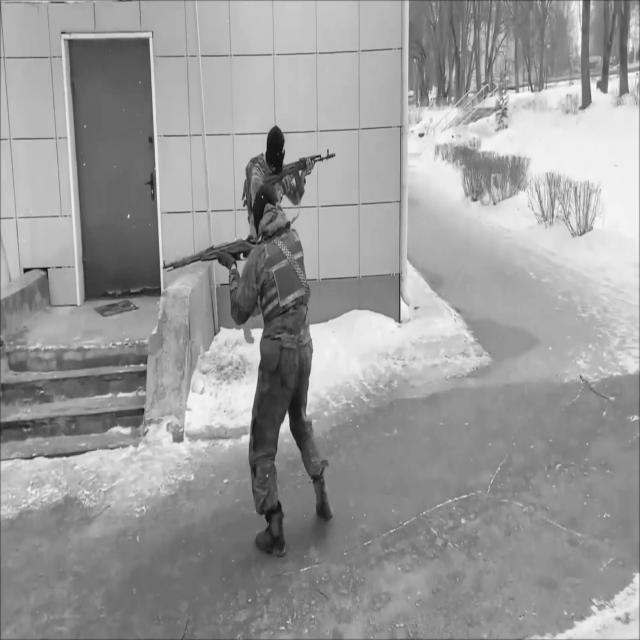gun: (162, 232, 262, 276), (262, 146, 338, 202)
person: (243, 123, 315, 346)
person with a gun: (162, 185, 334, 559), (243, 124, 338, 346)
